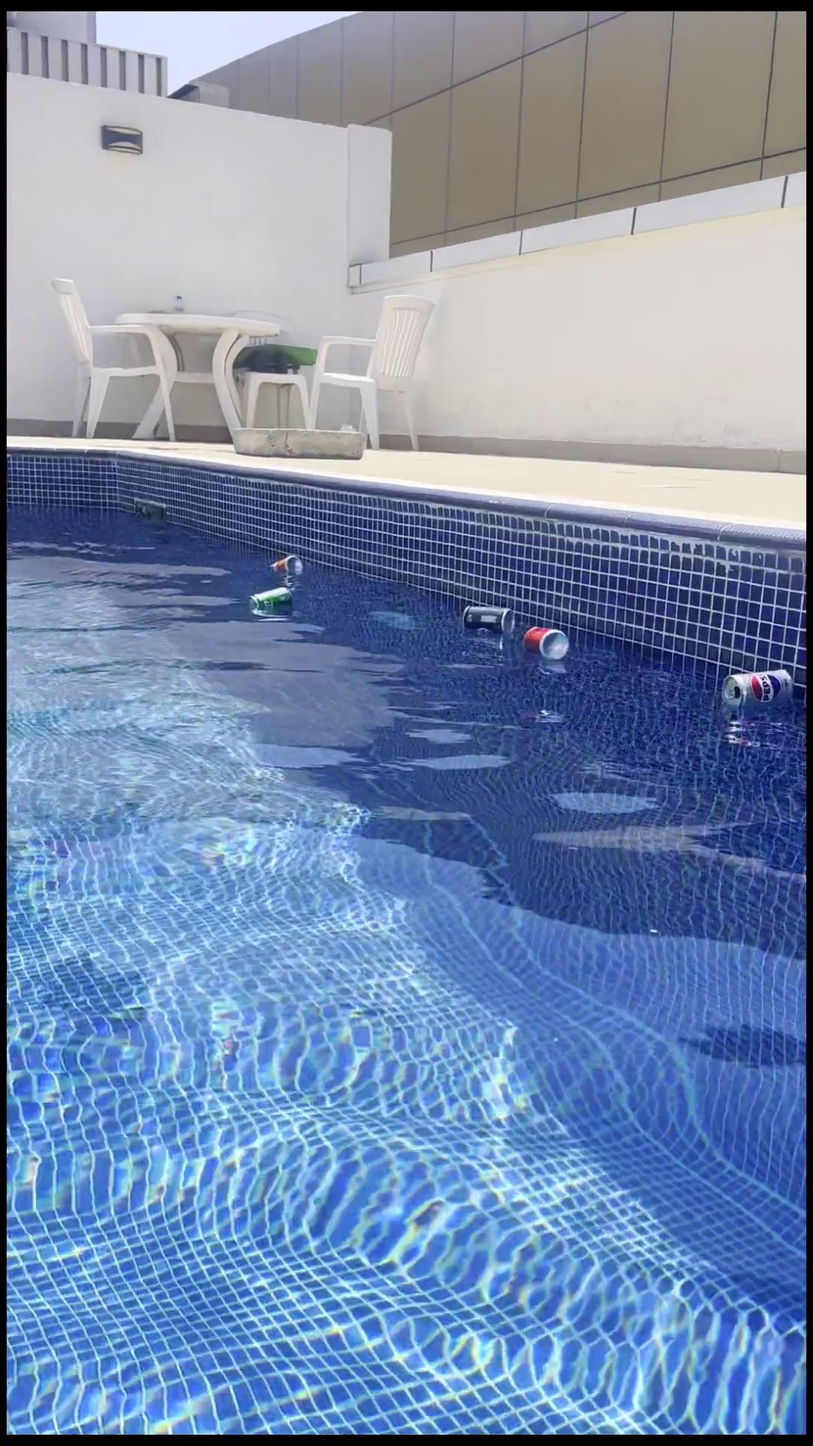debris: (716, 639, 795, 748), (518, 598, 570, 684), (460, 587, 515, 651), (243, 572, 295, 633), (265, 543, 303, 593)
